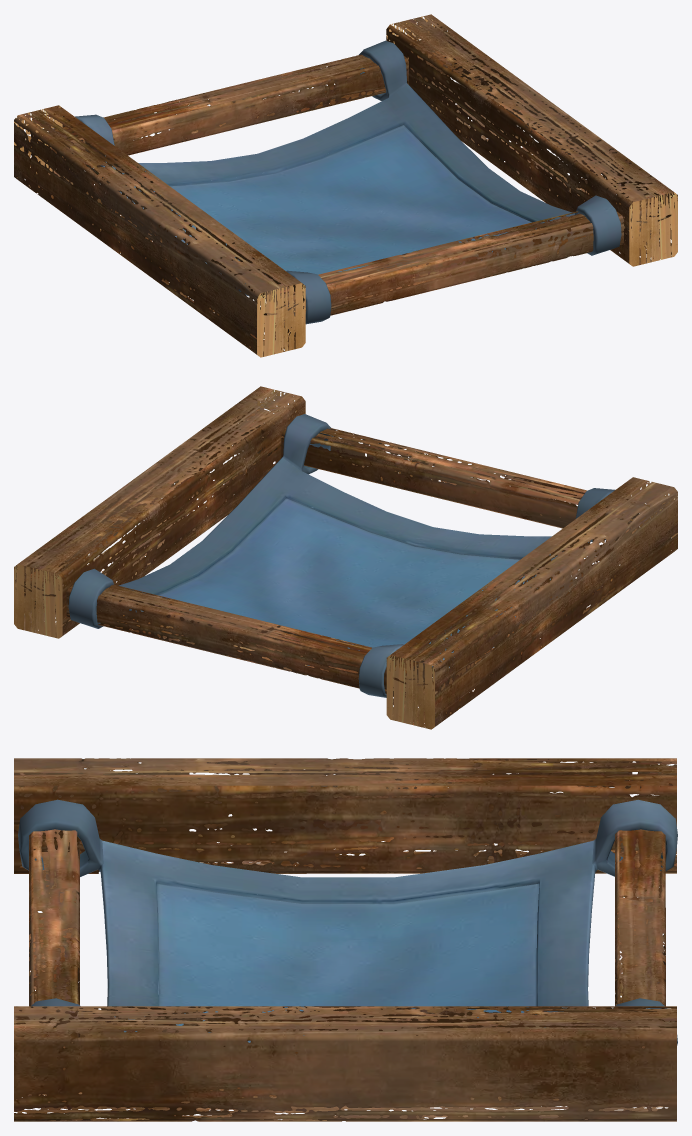
The picture shows the model from 3 angles, top to bottom: view 1: azimuth 30°, elevation 25°; view 2: azimuth 150°, elevation 25°; view 3: azimuth 270°, elevation 25°; orthographic projection. The views are drawn at different scales.
Parts seen in each view (by area): view 1: SM_BB_T4_Roof_Med_02_LOD0; view 2: SM_BB_T4_Roof_Med_02_LOD0; view 3: SM_BB_T4_Roof_Med_02_LOD0.
Part boxes in pixels (x1,y1,x2,y2): SM_BB_T4_Roof_Med_02_LOD0: (14, 14, 677, 357); SM_BB_T4_Roof_Med_02_LOD0: (14, 386, 677, 729); SM_BB_T4_Roof_Med_02_LOD0: (14, 758, 677, 1121).
Size of the model in its own units: 1.5 by 0.288 by 1.5.
Materials: 2 (2 with a texture image).
